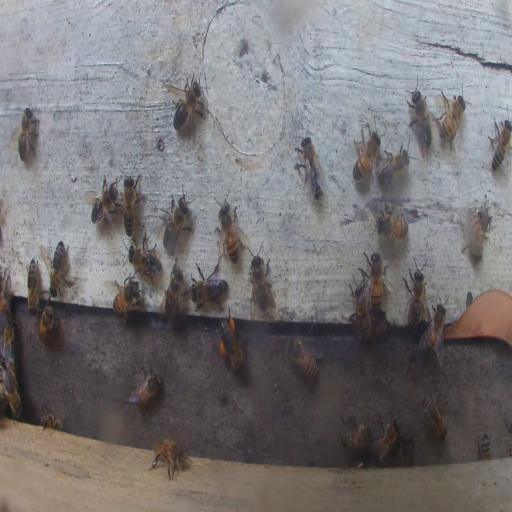bee: (168, 72, 208, 143), (406, 76, 434, 153), (161, 188, 192, 250), (296, 136, 326, 200), (218, 193, 243, 264), (218, 309, 244, 377), (88, 174, 119, 226), (418, 302, 446, 358), (352, 126, 380, 182), (404, 256, 426, 327), (190, 266, 227, 308), (150, 438, 187, 479), (440, 90, 466, 148), (14, 105, 40, 163), (162, 260, 184, 328), (376, 143, 410, 187), (348, 278, 372, 340), (250, 246, 272, 313), (122, 170, 144, 236), (126, 367, 162, 406), (467, 202, 490, 263), (286, 336, 319, 378), (111, 275, 142, 319), (128, 237, 161, 278), (48, 238, 70, 298), (372, 416, 400, 463), (489, 116, 512, 172), (422, 392, 448, 441), (374, 208, 409, 240), (341, 420, 372, 455), (2, 362, 20, 420), (27, 258, 39, 316), (37, 303, 54, 342), (0, 266, 13, 316), (371, 254, 382, 312), (397, 437, 415, 465), (2, 321, 14, 358), (478, 430, 492, 461), (39, 412, 63, 430)
